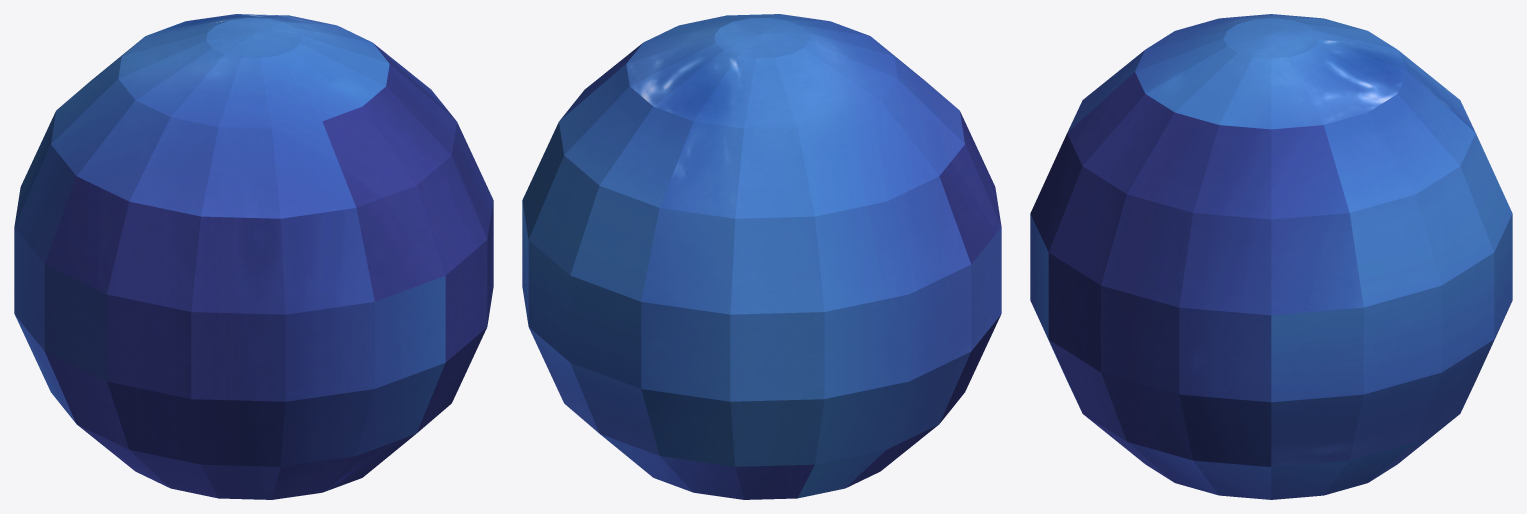
Rendered from Neptune.glb.
3 views of the same model, side by side, from view 1: azimuth 30°, elevation 25°; view 2: azimuth 150°, elevation 25°; view 3: azimuth 270°, elevation 25° (orthographic).
Parts seen in each view (by area): view 1: Sphere; view 2: Sphere; view 3: Sphere.
Part boxes in pixels (left/top/right/bottom): Sphere: left=14, top=14, right=493, bottom=499; Sphere: left=522, top=14, right=1001, bottom=499; Sphere: left=1030, top=14, right=1512, bottom=499.
Bounding box in the file's own units: 1.96 × 2 × 1.96.
Materials: 1 (1 with a texture image).
